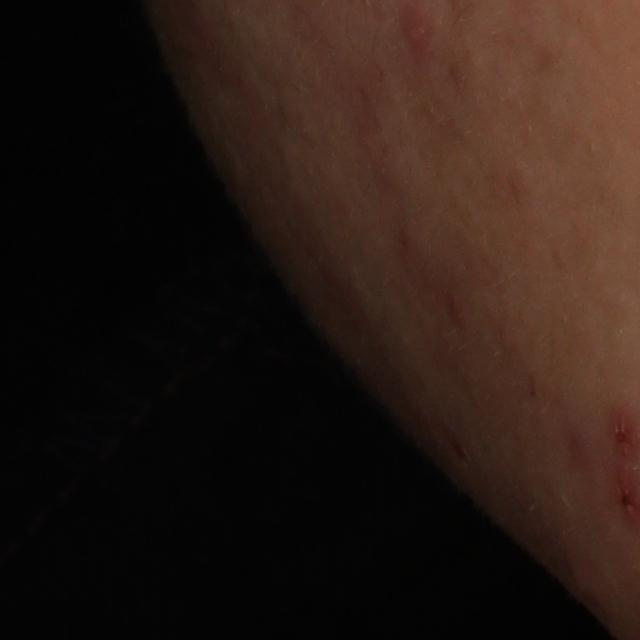papule: (395, 3, 440, 64), (611, 409, 637, 464)
